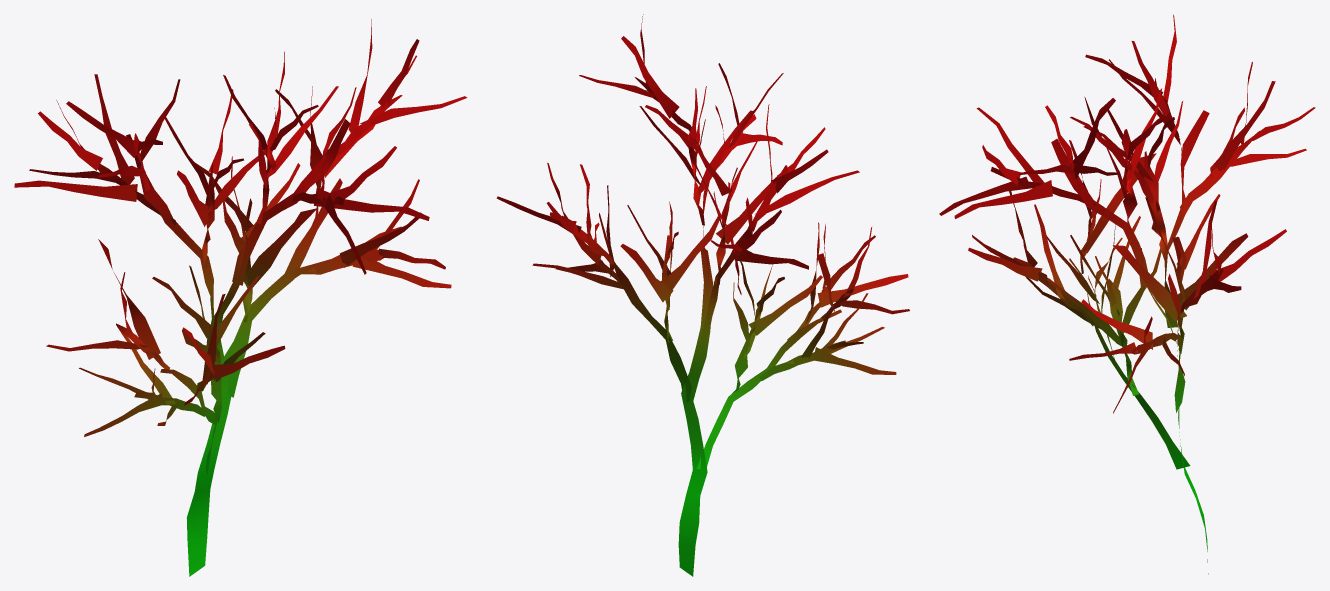
File: Rose Hip_LOD4_Var11.fbx
3 renders of one model, left to right at view 1: azimuth 30°, elevation 25°; view 2: azimuth 150°, elevation 25°; view 3: azimuth 270°, elevation 25°, orthographic. The views are drawn at different scales.
Parts seen in each view (by area): view 1: _15kv_Var11_LOD4; view 2: _15kv_Var11_LOD4; view 3: _15kv_Var11_LOD4.
Boxes of the visible parts, x1=… form: _15kv_Var11_LOD4: x1=14, y1=19, x2=467, y2=576; _15kv_Var11_LOD4: x1=496, y1=14, x2=909, y2=576; _15kv_Var11_LOD4: x1=939, y1=14, x2=1315, y2=574.
Bounding box in the file's own units: 60.19 × 78.95 × 49.9.
